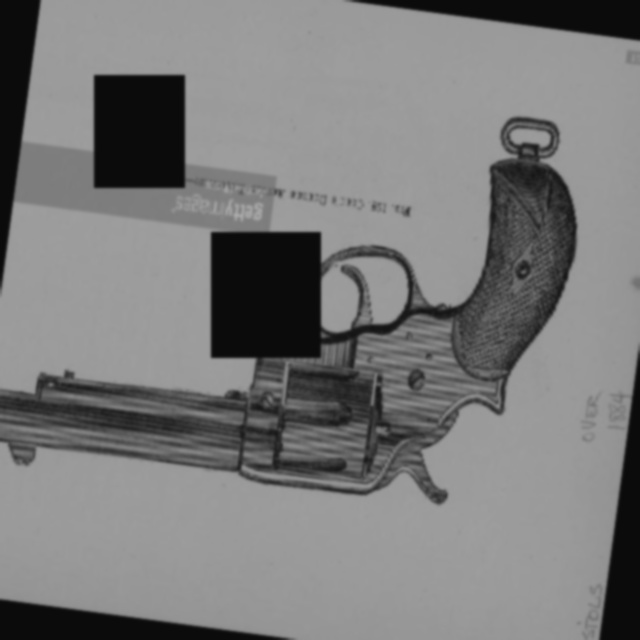gun: (0, 53, 592, 546)
